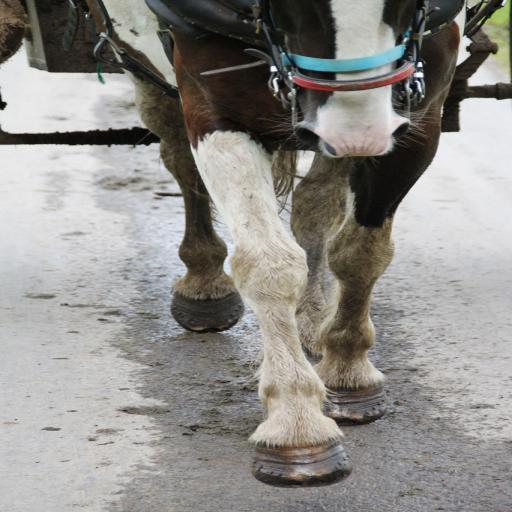horse: (66, 0, 496, 487)
